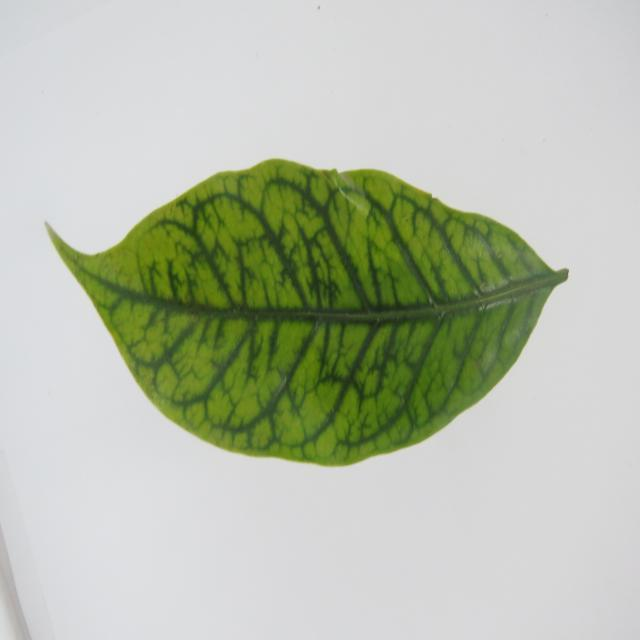DeficienciaNutricional-Magnesio: (46, 160, 568, 465)
